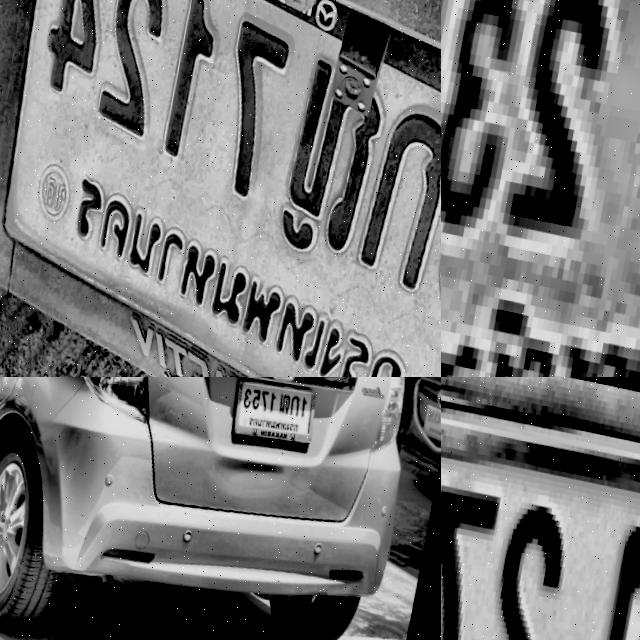license-plate: (0, 0, 441, 377), (441, 0, 640, 377), (441, 377, 640, 640), (225, 377, 326, 451)
